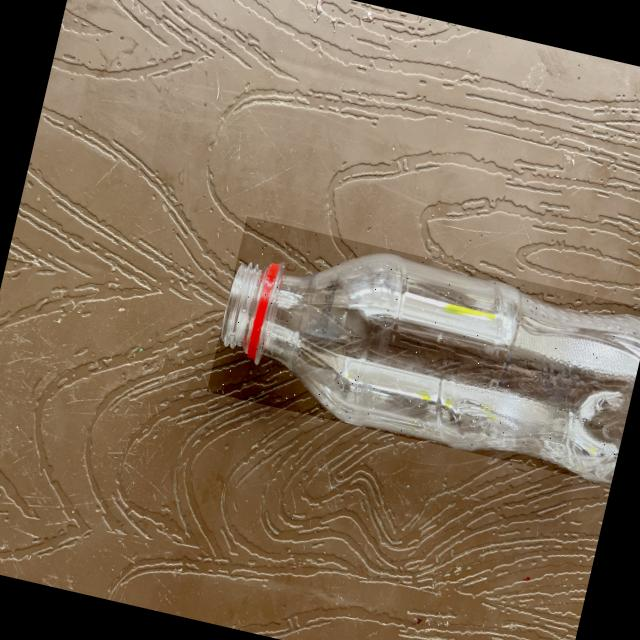PET_With_Cap: (205, 214, 640, 483)
